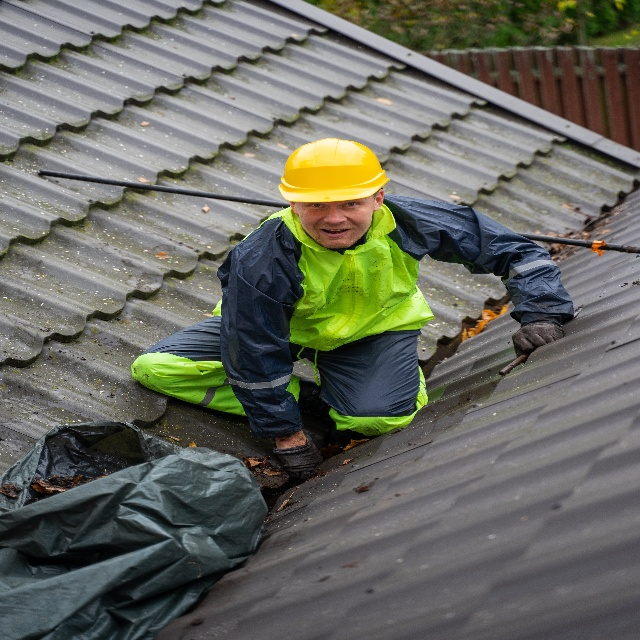Guantes: (272, 441, 323, 477), (511, 324, 563, 358)
